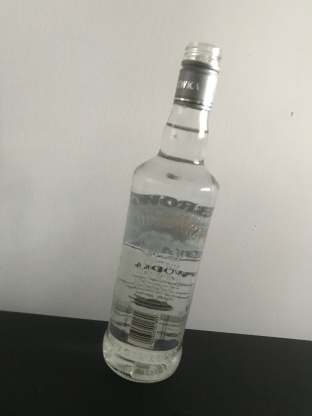nakretka: (171, 39, 223, 113)
